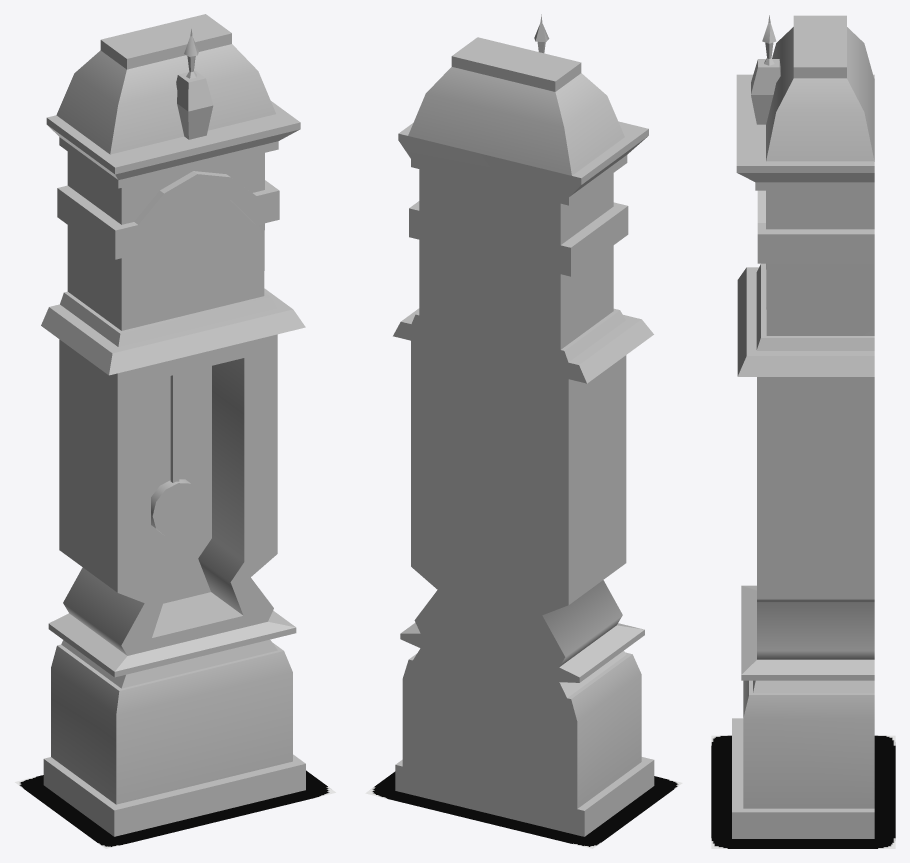
Rendered from jj_ty_luodizhong01.FBX.
The picture shows the model from 3 angles, left to right: view 1: azimuth 30°, elevation 25°; view 2: azimuth 150°, elevation 25°; view 3: azimuth 270°, elevation 25°; orthographic projection. The views are drawn at different scales.
Visible parts, largest first — view 1: jj_ty_luodizhong01, shadow; view 2: jj_ty_luodizhong01, shadow; view 3: jj_ty_luodizhong01, shadow.
Boxes of the visible parts, box(x1,y1,x2,y2) form: jj_ty_luodizhong01: box(41, 14, 305, 836); shadow: box(15, 770, 335, 848); jj_ty_luodizhong01: box(393, 14, 654, 836); shadow: box(365, 771, 682, 848); jj_ty_luodizhong01: box(732, 15, 874, 838); shadow: box(711, 735, 895, 848).
Bounding box in the file's own units: 53.42 × 172 × 36.67.
